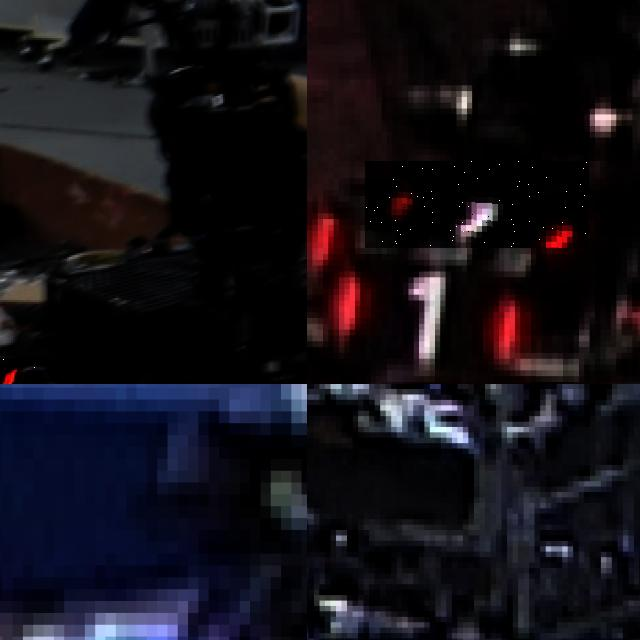R1: (307, 242, 542, 376), (366, 161, 590, 248)
Rs: (0, 357, 83, 384)
